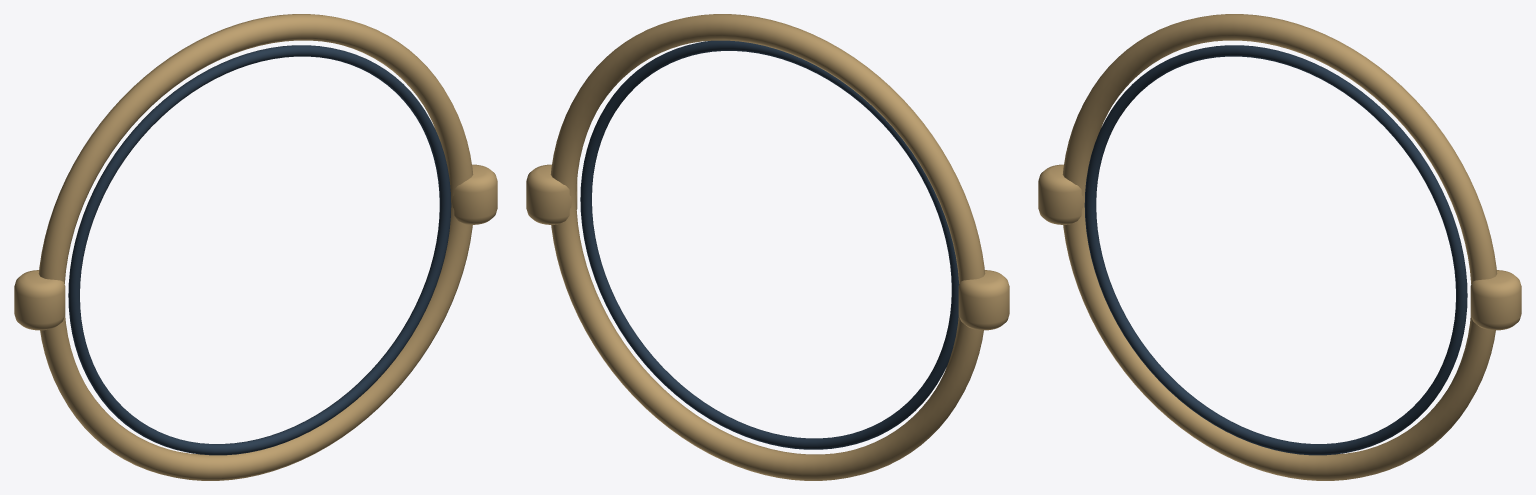
The model's file is SM_Court_TuningRing.fbx.
3 renders of one model, left to right at view 1: azimuth 30°, elevation 25°; view 2: azimuth 150°, elevation 25°; view 3: azimuth 330°, elevation 25°, orthographic.
Visible parts, largest first — view 1: SM_Court_TuningRing; view 2: SM_Court_TuningRing; view 3: SM_Court_TuningRing.
Part boxes in pixels (<box>): SM_Court_TuningRing: <box>14,14,497,480</box>; SM_Court_TuningRing: <box>526,14,1009,480</box>; SM_Court_TuningRing: <box>1038,14,1521,480</box>.
Size of the model in its own units: 86 by 8 by 78.2.
